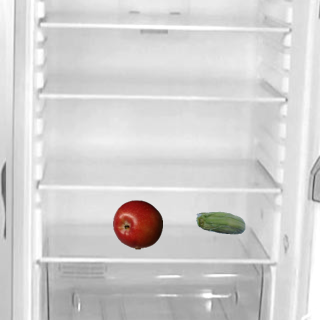Apple Braeburn: (112, 199, 162, 249)
Corn Husk: (195, 199, 245, 249)
